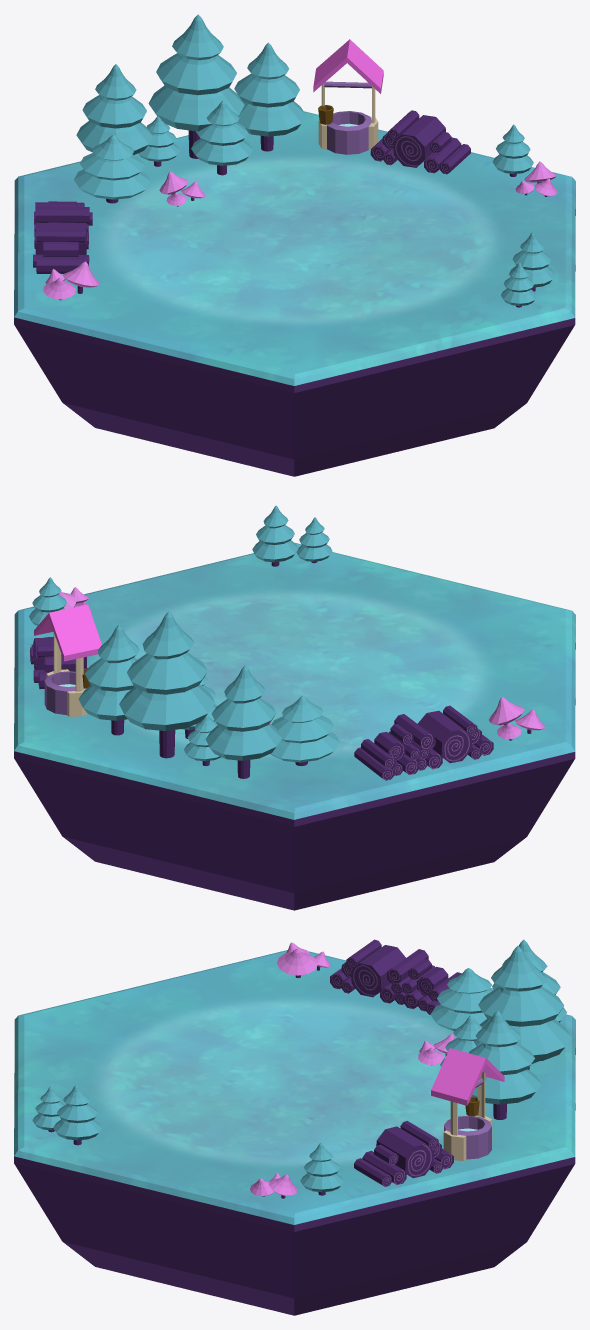
File: Asset_Biome_Forest.fbx
3 views of the same model, one above another, from view 1: azimuth 30°, elevation 25°; view 2: azimuth 150°, elevation 25°; view 3: azimuth 270°, elevation 25° (orthographic).
Parts seen in each view (by area): view 1: Asset_Tile_Forest, PolySurface_TreeForest_02, PolySurface_TreeForest_06, structure_puit1, PolySurface_TreeForest_03, PolySurface_TreeForest_04, PolySurface_TreeForest_05, pCylinder2 (×2), PolySurface_TreeForest_07, PolySurface_TreeForest_09, PolySurface_MushroomForest_02, PolySurface_TreeForest_01 (+6 smaller); view 2: Asset_Tile_Forest, PolySurface_TreeForest_02, PolySurface_TreeForest_03, structure_puit1, PolySurface_TreeForest_06, PolySurface_TreeForest_04, PolySurface_TreeForest_09, pCylinder2, PolySurface_MushroomForest_02, PolySurface_TreeForest_08, PolySurface_TreeForest_01, PolySurface_TreeForest_07 (+3 smaller); view 3: Asset_Tile_Forest, PolySurface_TreeForest_02, structure_puit1, PolySurface_TreeForest_06, pCylinder2 (×2), PolySurface_TreeForest_04, PolySurface_TreeForest_09, PolySurface_TreeForest_07, PolySurface_MushroomForest_02, PolySurface_TreeForest_08, PolySurface_MushroomForest_03, PolySurface_TreeForest_05 (+6 smaller).
Boxes of the visible parts, x1=… form: Asset_Tile_Forest: x1=14, y1=111, x2=575, y2=476; PolySurface_TreeForest_02: x1=148, y1=14, x2=244, y2=158; PolySurface_TreeForest_06: x1=234, y1=42, x2=305, y2=151; structure_puit1: x1=313, y1=39, x2=383, y2=154; PolySurface_TreeForest_03: x1=76, y1=64, x2=152, y2=154; PolySurface_TreeForest_04: x1=74, y1=135, x2=150, y2=203; PolySurface_TreeForest_05: x1=191, y1=100, x2=252, y2=175; pCylinder2 (×2): x1=35, y1=115, x2=445, y2=254; PolySurface_TreeForest_07: x1=492, y1=124, x2=533, y2=176; PolySurface_TreeForest_09: x1=509, y1=232, x2=554, y2=291; PolySurface_MushroomForest_02: x1=43, y1=261, x2=99, y2=300; PolySurface_TreeForest_01: x1=138, y1=116, x2=179, y2=166; Asset_Tile_Forest: x1=14, y1=543, x2=575, y2=910; PolySurface_TreeForest_02: x1=119, y1=611, x2=215, y2=758; PolySurface_TreeForest_03: x1=205, y1=665, x2=282, y2=778; structure_puit1: x1=34, y1=604, x2=101, y2=716; PolySurface_TreeForest_06: x1=78, y1=625, x2=139, y2=735; PolySurface_TreeForest_04: x1=270, y1=695, x2=339, y2=766; PolySurface_TreeForest_09: x1=252, y1=505, x2=298, y2=566; pCylinder2: x1=417, y1=710, x2=472, y2=763; PolySurface_MushroomForest_02: x1=489, y1=697, x2=545, y2=740; PolySurface_TreeForest_08: x1=296, y1=517, x2=332, y2=563; PolySurface_TreeForest_01: x1=184, y1=714, x2=221, y2=765; PolySurface_TreeForest_07: x1=29, y1=577, x2=66, y2=625; Asset_Tile_Forest: x1=14, y1=950, x2=575, y2=1315; PolySurface_TreeForest_02: x1=473, y1=946, x2=572, y2=1069; structure_puit1: x1=431, y1=1048, x2=504, y2=1161; PolySurface_TreeForest_06: x1=469, y1=1010, x2=541, y2=1119; pCylinder2 (×2): x1=351, y1=945, x2=433, y2=1178; PolySurface_TreeForest_04: x1=430, y1=968, x2=493, y2=1030; PolySurface_TreeForest_09: x1=53, y1=1085, x2=101, y2=1145; PolySurface_TreeForest_07: x1=300, y1=1142, x2=343, y2=1195; PolySurface_MushroomForest_02: x1=277, y1=942, x2=330, y2=977; PolySurface_TreeForest_08: x1=32, y1=1086, x2=64, y2=1132; PolySurface_MushroomForest_03: x1=250, y1=1173, x2=297, y2=1198; PolySurface_TreeForest_05: x1=440, y1=1015, x2=481, y2=1066.
Size of the model in its own units: 436 by 217 by 378.
2 materials, 2 textured.
